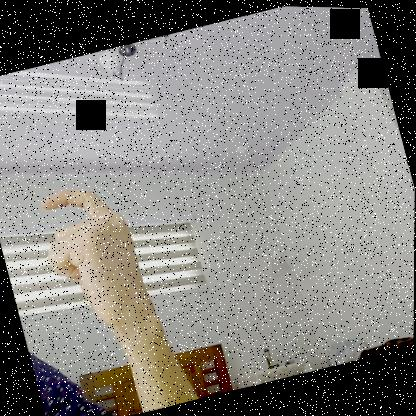X: (28, 168, 166, 351)
